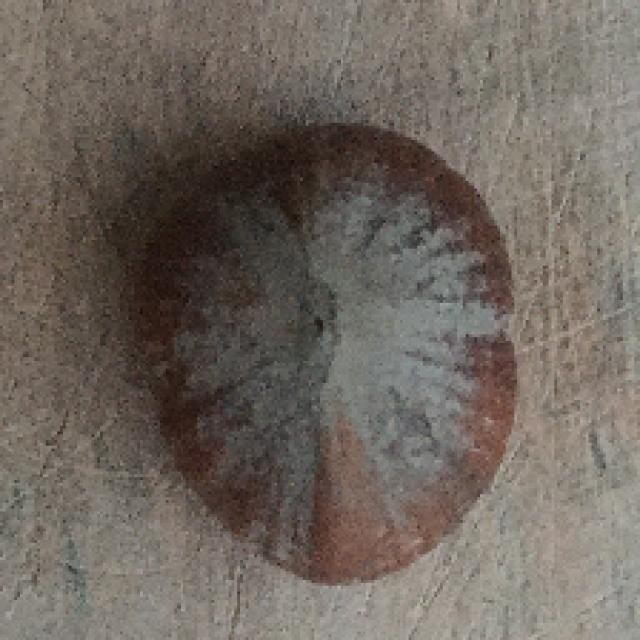qualityHazelnut: (118, 119, 530, 582)
